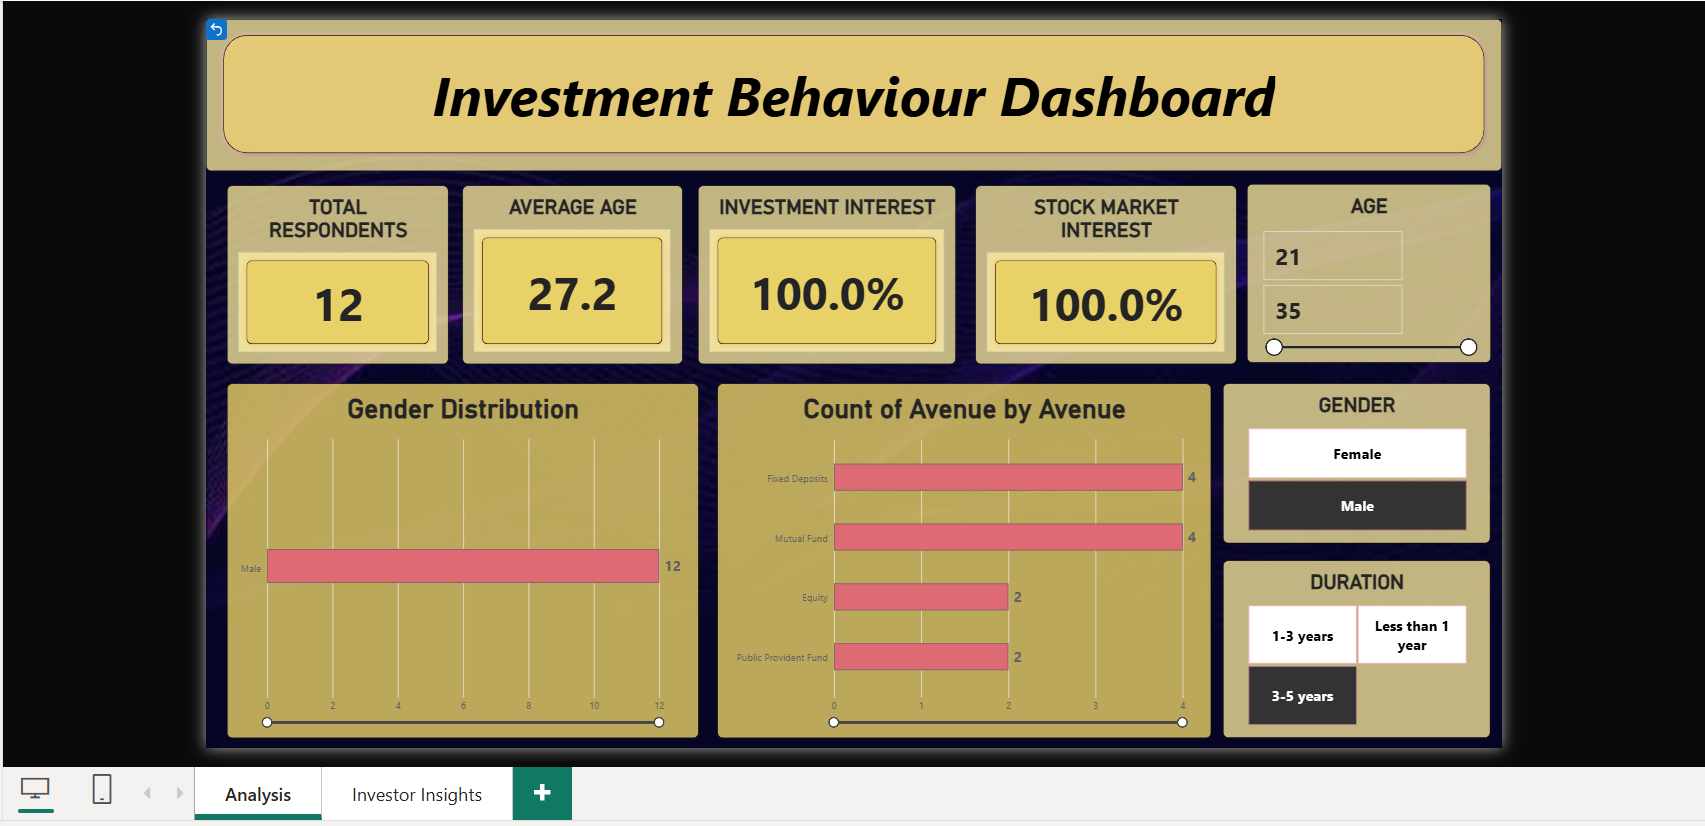

The page's visual inventory and layout, read from the dashboard file:
{"tool":"powerbi","page":{"name":"Analysis","canvas":[1920,1080],"ordinal":0},"visuals":[{"type":"clusteredBarChart","title":"Gender Distribution","fields":{"Category":["Data_set - Copy.Gender"],"Y":["CountNonNull(Data_set - Copy.Gender)"]},"box":[30.5,539.2,698.7,525.2],"z":0},{"type":"shape","box":[0,0,1920.1,225.1],"z":1000},{"type":"cardVisual","title":"TOTAL RESPONDENTS","fields":{"Data":["Data_set - Copy.Total Respondents"]},"box":[30.5,246.2,328.2,264.9],"z":2000},{"type":"cardVisual","title":"AVERAGE AGE","fields":{"Data":["Data_set - Copy.Average Age"]},"box":[379.8,246.2,325.9,264.9],"z":3000},{"type":"cardVisual","title":"INVESTMENT INTEREST","fields":{"Data":["Data_set - Copy.Investment Interest %"]},"box":[729.1,246.2,382.2,264.9],"z":4000},{"type":"cardVisual","title":"STOCK MARKET INTEREST","fields":{"Data":["Data_set - Copy.Stock Market Interest %"]},"box":[1139.4,246.2,386.8,264.9],"z":5000},{"type":"clusteredBarChart","fields":{"Category":["Data_set - Copy.Avenue"],"Y":["CountNonNull(Data_set - Copy.Avenue)"]},"box":[757.3,539.2,731.5,525.2],"z":6000},{"type":"slicer","title":"GENDER","fields":{"Values":["Data_set - Copy.Gender"]},"box":[1507.5,539.2,396.2,236.8],"z":7000},{"type":"slicer","title":"DURATION","fields":{"Values":["Data_set - Copy.Duration"]},"box":[1507.5,801.8,396.2,262.6],"z":8000},{"type":"slicer","title":"AGE","fields":{"Values":["Data_set - Copy.Age"]},"box":[1542.7,243.8,361.1,264.9],"z":9000},{"type":"actionButton","box":[0,0,31.1,31.1],"z":10000}]}

Visuals, with their boxes on the page's 1920x1080 design canvas (x1, y1, x2, y2). These are canvas units, not pixel positions in the 1705x826 screenshot, which may show the page scaled, cropped or inside an application window:
"Gender Distribution" clusteredBarChart: bbox=(30, 539, 729, 1064)
shape: bbox=(0, 0, 1920, 225)
"TOTAL RESPONDENTS" cardVisual: bbox=(30, 246, 359, 511)
"AVERAGE AGE" cardVisual: bbox=(380, 246, 706, 511)
"INVESTMENT INTEREST" cardVisual: bbox=(729, 246, 1111, 511)
"STOCK MARKET INTEREST" cardVisual: bbox=(1139, 246, 1526, 511)
clusteredBarChart - Data_set - Copy.Avenue x CountNonNull(Data_set - Copy.Avenue): bbox=(757, 539, 1489, 1064)
"GENDER" slicer: bbox=(1508, 539, 1904, 776)
"DURATION" slicer: bbox=(1508, 802, 1904, 1064)
"AGE" slicer: bbox=(1543, 244, 1904, 509)
actionButton: bbox=(0, 0, 31, 31)
